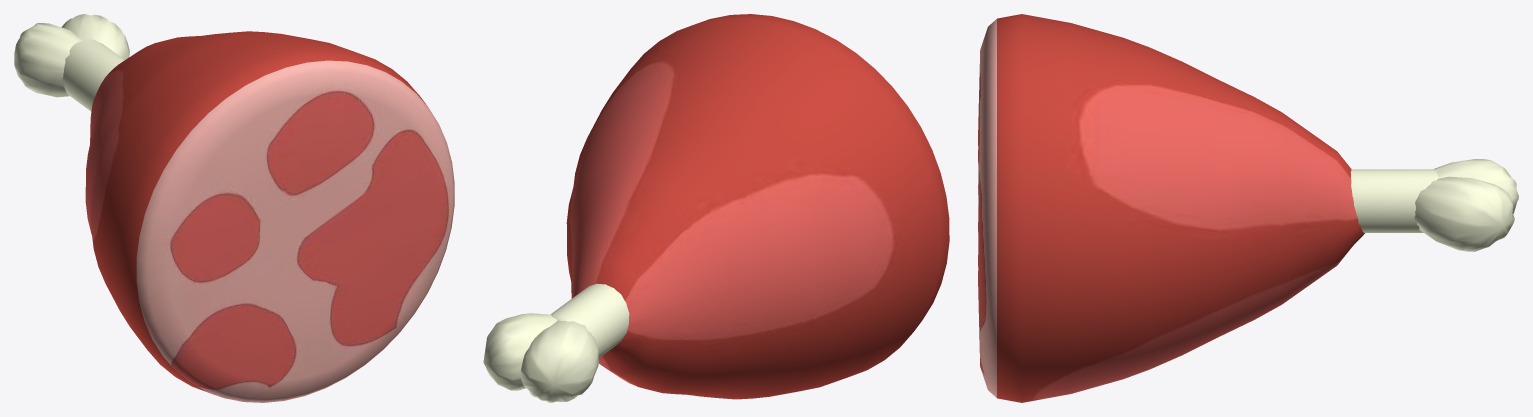
The model's file is jitui.fbx.
3 renders of one model, left to right at view 1: azimuth 30°, elevation 25°; view 2: azimuth 150°, elevation 25°; view 3: azimuth 270°, elevation 25°, orthographic. The views are drawn at different scales.
Visible parts, largest first — view 1: pCylinder5, pCone1, pCylinder6, pCone2; view 2: pCylinder5, pCone1, pCone2, pCylinder6; view 3: pCylinder5, pCone2, pCylinder6, pCone1.
Boxes of the visible parts, bbox=[...] form: pCylinder5: bbox=[85, 31, 454, 402]; pCone1: bbox=[14, 23, 82, 97]; pCylinder6: bbox=[62, 39, 124, 111]; pCone2: bbox=[61, 14, 129, 59]; pCylinder5: bbox=[566, 14, 949, 399]; pCone1: bbox=[520, 320, 598, 402]; pCone2: bbox=[483, 313, 557, 390]; pCylinder6: bbox=[550, 283, 629, 357]; pCylinder5: bbox=[978, 14, 1364, 402]; pCone2: bbox=[1414, 176, 1514, 251]; pCylinder6: bbox=[1350, 169, 1438, 232]; pCone1: bbox=[1433, 159, 1518, 213].
Size of the model in its own units: 1.87 by 2.6 by 1.87.
Materials: 2 (1 with a texture image).
